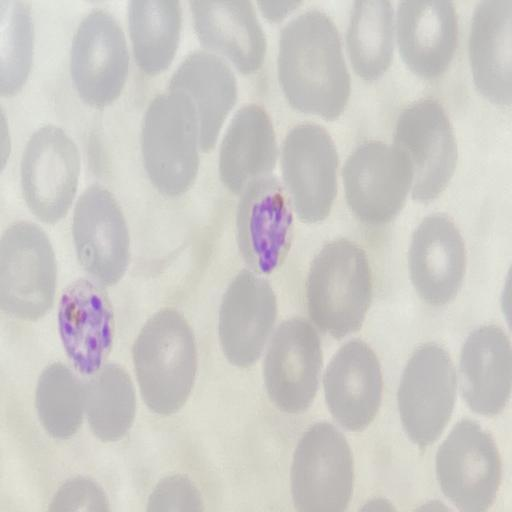Infected: (58, 274, 118, 374), (236, 171, 293, 275)
Uninfected: (277, 13, 350, 119), (173, 50, 239, 149), (391, 101, 457, 200), (16, 124, 81, 223), (183, 0, 271, 73), (133, 313, 196, 413), (280, 123, 341, 225), (143, 89, 201, 193), (308, 241, 372, 335), (399, 344, 459, 444), (289, 421, 354, 511), (437, 418, 498, 512), (0, 226, 60, 319), (218, 274, 279, 365), (343, 140, 409, 223), (324, 338, 384, 428), (72, 8, 128, 104), (214, 104, 275, 191), (76, 184, 130, 281), (410, 215, 467, 303), (266, 323, 322, 412), (460, 324, 512, 417), (78, 364, 138, 443), (394, 0, 459, 71), (128, 0, 181, 75), (348, 0, 396, 81), (33, 364, 84, 440)
